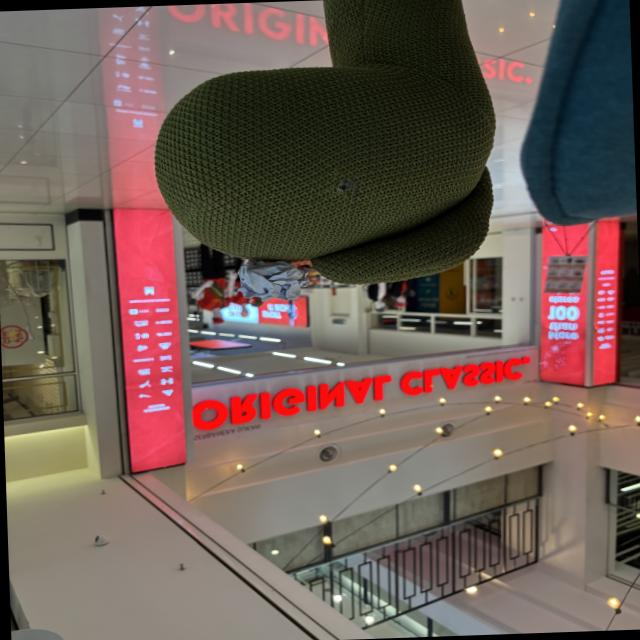crumpled_paper: (231, 255, 312, 304)
